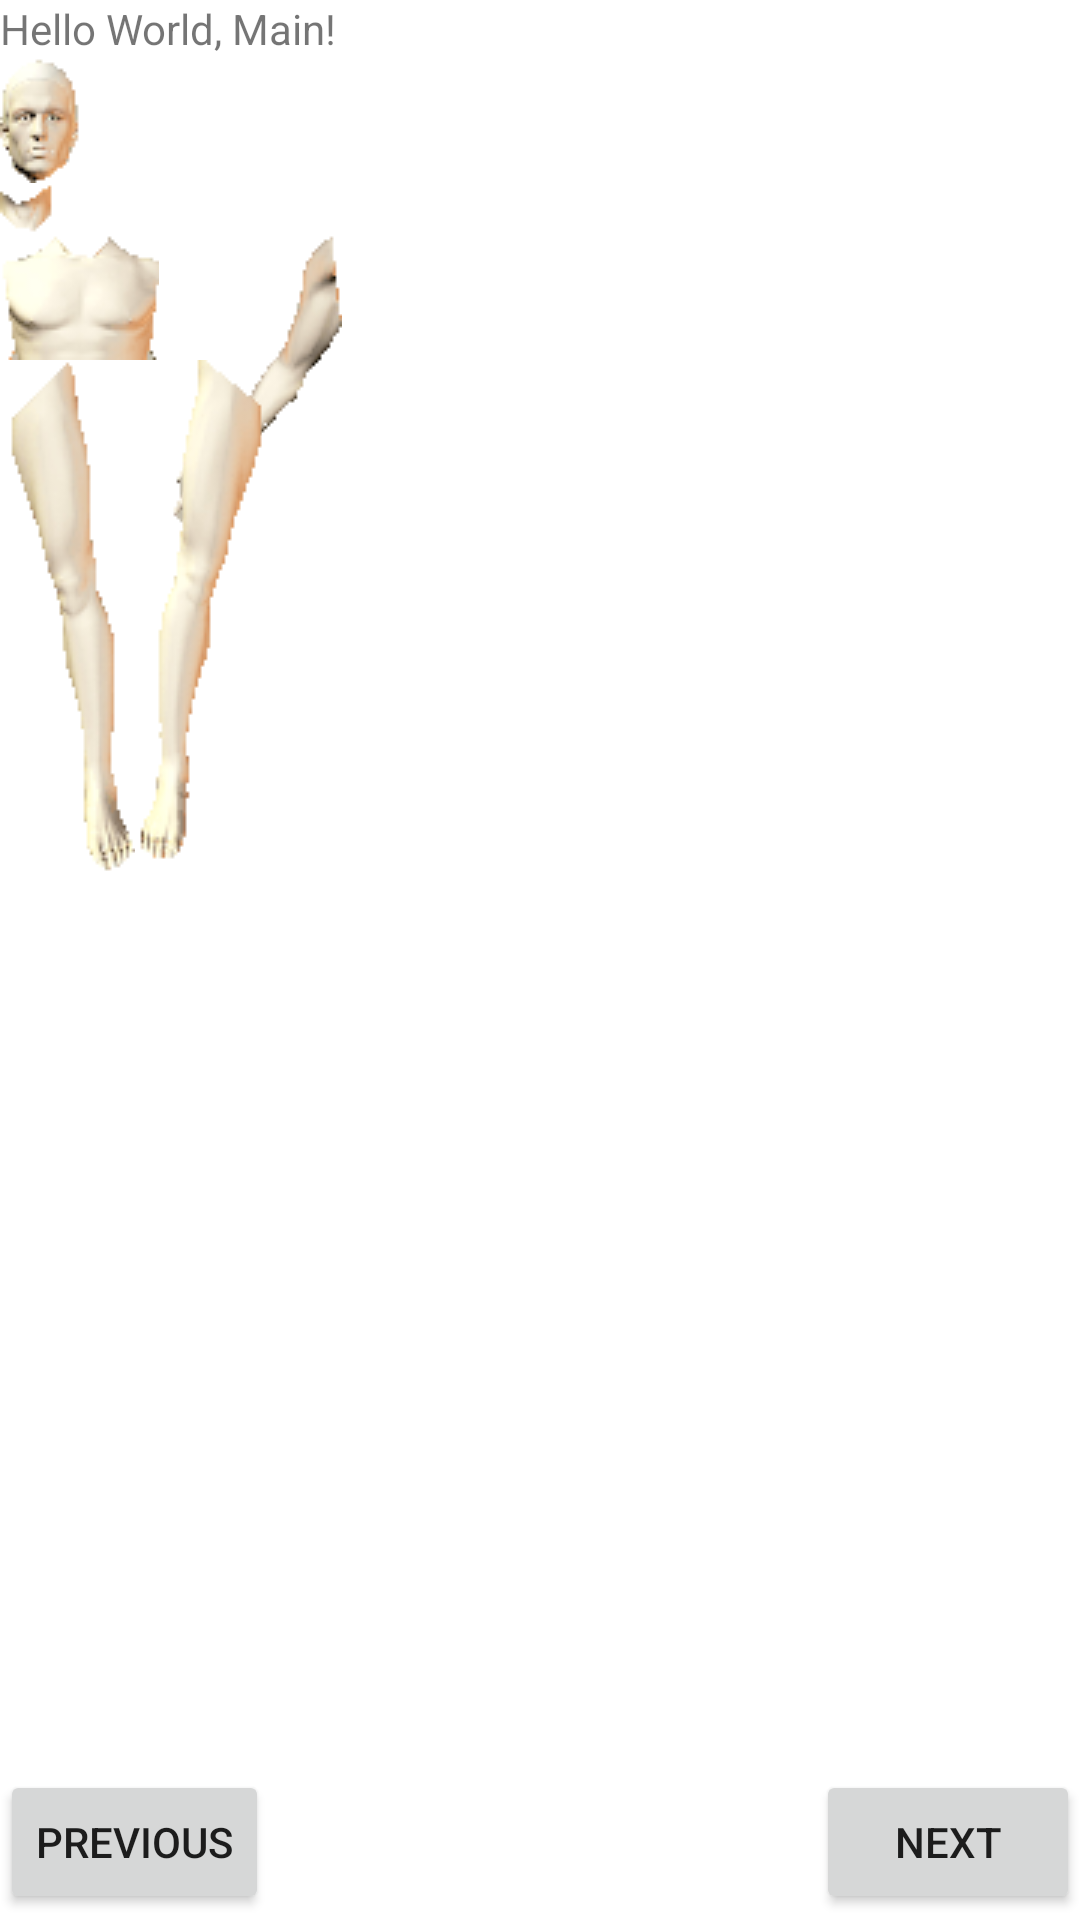

Where icons sit on this 1080x1920 app screen, as (x1, y1, x2, y2):
fchest: (6, 236, 159, 360)
fhead: (0, 60, 79, 183)
fneck: (0, 185, 52, 231)
